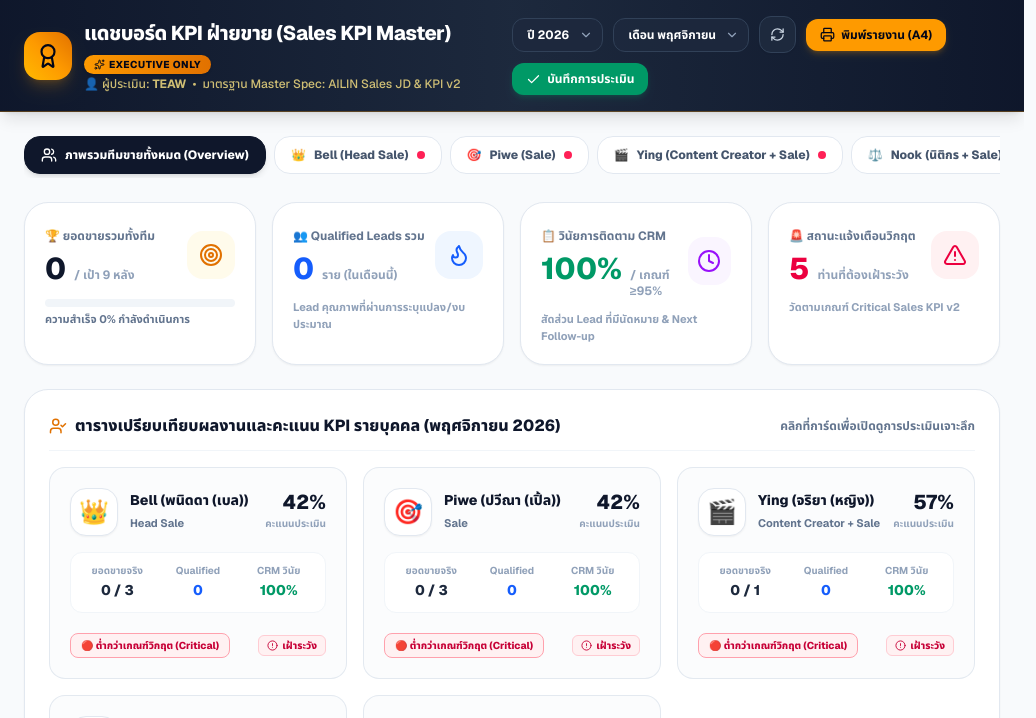
Scenario: SalesKpiMasterDashboard › allows updating mindset ratings and saving evaluations to localStorage
// Click Piwe tab
Step 1. Click the button "🎯 Piwe (Sale)" → {"x": 519, "y": 155}, box [450,136,589,174]
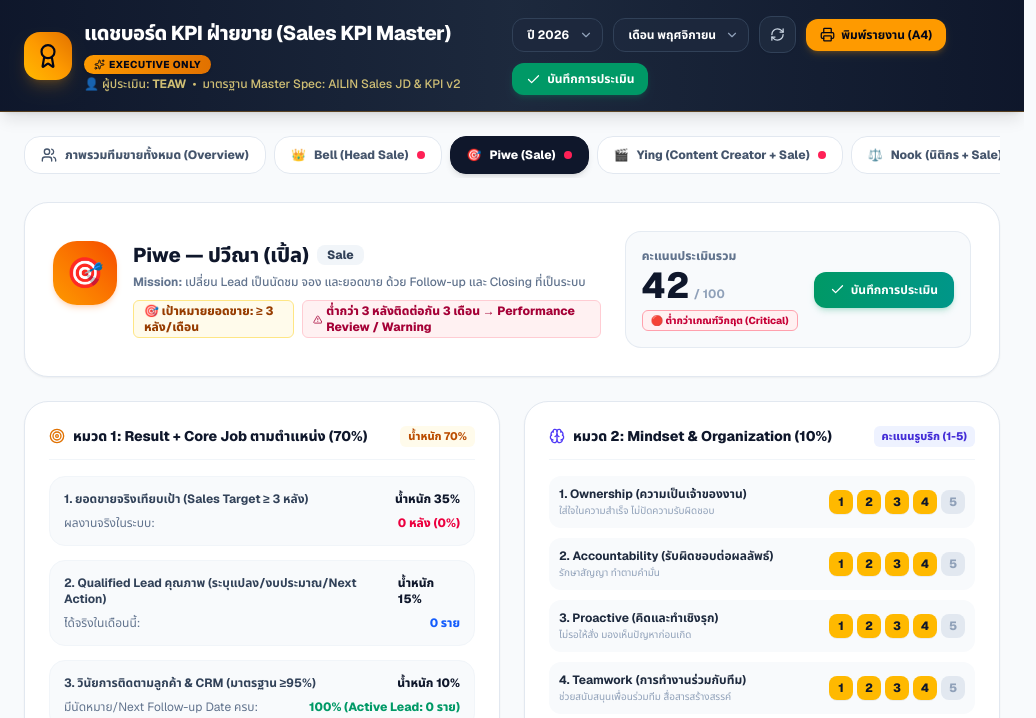
// Save button (select first instance if multiple)
Step 2. Click the button "บันทึกการประเมิน" in the row of "Executive Only" → {"x": 580, "y": 79}, box [512,63,648,95]
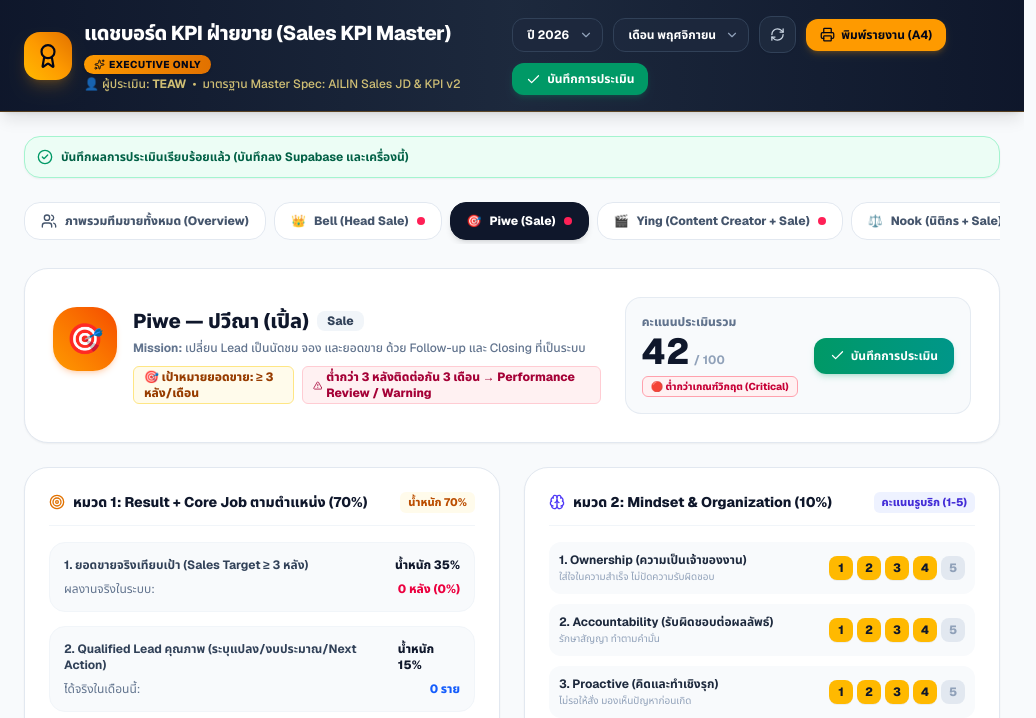
Expected: the text "บันทึกผลการประเมินเรียบร้อยแล้ว" is shown, [61,149,409,165]
